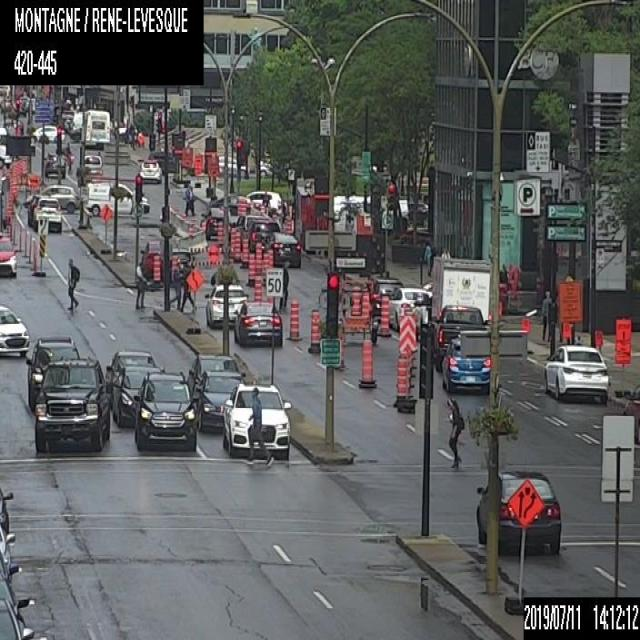bus: (84, 105, 111, 147)
construction: (508, 478, 539, 614), (396, 308, 416, 412), (557, 275, 581, 338), (614, 314, 630, 399), (187, 245, 225, 271), (187, 269, 203, 312), (394, 354, 408, 401), (376, 293, 391, 336), (360, 338, 373, 385), (306, 308, 319, 353), (287, 297, 299, 339), (361, 288, 373, 324), (100, 202, 110, 244), (208, 158, 218, 198), (350, 286, 361, 321), (522, 315, 530, 354), (181, 145, 190, 179), (338, 320, 344, 370), (151, 252, 161, 281), (6, 190, 15, 222), (234, 193, 247, 215), (260, 251, 268, 286), (253, 272, 261, 306), (247, 252, 255, 286), (240, 236, 248, 270), (233, 229, 241, 263), (192, 155, 200, 187), (9, 171, 17, 203), (231, 228, 238, 262), (136, 130, 144, 158), (254, 240, 261, 272), (593, 326, 602, 346), (13, 160, 20, 182), (217, 223, 222, 252), (284, 213, 291, 231), (267, 248, 273, 267)
pedestrian: (247, 386, 274, 466), (446, 394, 464, 469), (168, 256, 183, 311), (65, 255, 80, 309), (134, 253, 146, 308), (181, 264, 194, 313), (540, 288, 552, 341), (278, 265, 288, 308), (182, 184, 195, 216), (422, 240, 433, 276), (129, 122, 136, 152), (262, 190, 270, 211)
vehicle: (476, 468, 562, 553), (33, 360, 111, 450), (131, 368, 199, 452), (222, 382, 291, 460), (432, 255, 491, 328), (544, 342, 609, 406), (429, 304, 489, 372), (25, 337, 80, 411), (184, 352, 242, 414), (195, 369, 247, 432), (441, 335, 493, 390), (106, 349, 157, 402), (82, 180, 148, 216), (233, 298, 282, 344), (204, 281, 246, 328), (388, 286, 431, 331), (0, 577, 35, 627), (24, 184, 80, 212), (0, 304, 28, 356), (0, 596, 33, 639), (372, 277, 404, 319), (247, 220, 283, 255), (265, 232, 301, 267), (33, 195, 61, 232), (245, 188, 282, 213), (140, 240, 164, 277), (210, 192, 252, 213), (230, 214, 264, 239), (0, 548, 21, 588), (0, 230, 16, 277), (0, 487, 15, 534), (202, 206, 222, 240), (0, 523, 15, 567), (217, 155, 248, 176), (137, 157, 161, 183), (148, 149, 174, 171), (44, 151, 66, 177), (32, 123, 63, 141), (171, 247, 195, 270), (83, 152, 102, 175), (255, 157, 276, 177)
